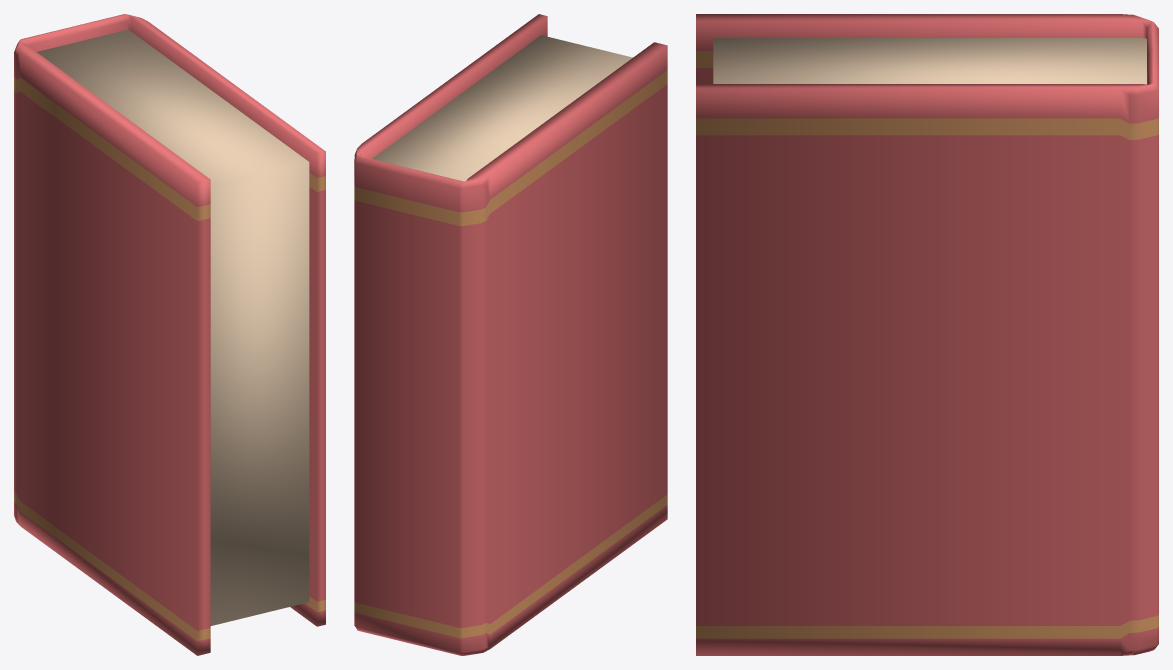
The model's file is Book.fbx.
The picture shows the model from 3 angles, left to right: view 1: azimuth 30°, elevation 25°; view 2: azimuth 150°, elevation 25°; view 3: azimuth 270°, elevation 25°; orthographic projection. The views are drawn at different scales.
Visible parts, largest first — view 1: Cube, Cube.001; view 2: Cube, Cube.001; view 3: Cube, Cube.001.
Boxes of the visible parts, bbox=[...] form: Cube: bbox=[14, 14, 325, 655]; Cube.001: bbox=[37, 30, 309, 625]; Cube: bbox=[354, 14, 667, 655]; Cube.001: bbox=[372, 35, 632, 181]; Cube: bbox=[696, 14, 1158, 655]; Cube.001: bbox=[713, 38, 1146, 84].
Bounding box in the file's own units: 80.71 × 284 × 210.
